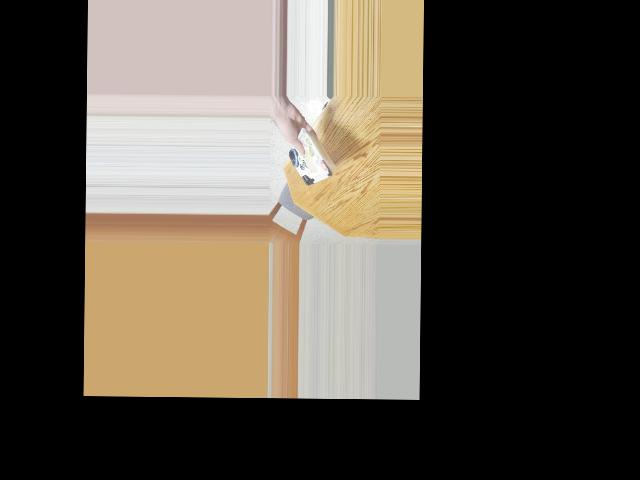cheese: (287, 132, 344, 189)
